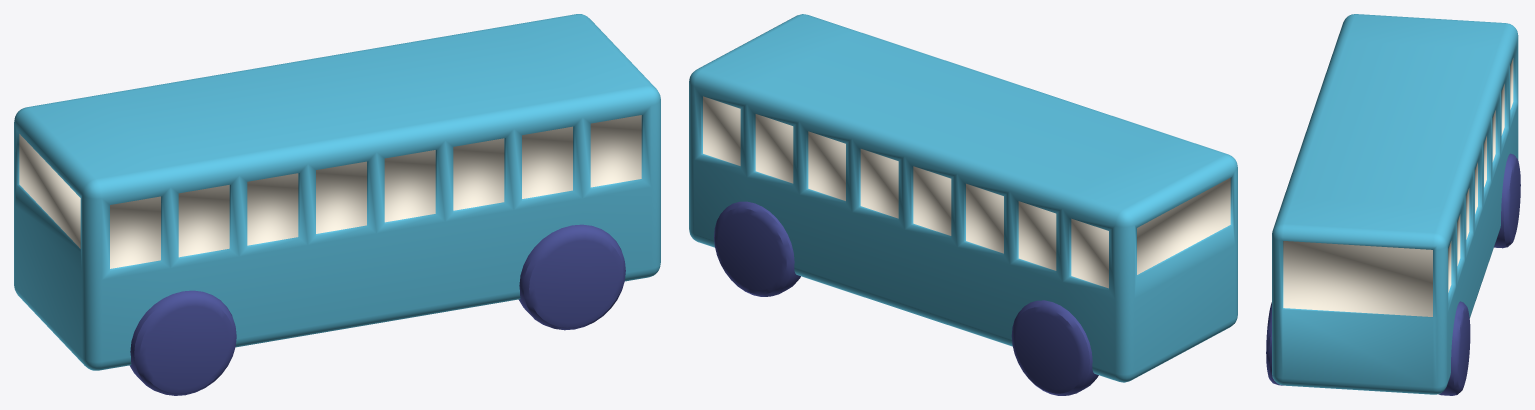
The model's file is 065_Bus.glb.
The picture shows the model from 3 angles, left to right: view 1: azimuth 30°, elevation 25°; view 2: azimuth 150°, elevation 25°; view 3: azimuth 270°, elevation 25°; orthographic projection. The views are drawn at different scales.
Parts seen in each view (by area): view 1: 立方体066, 立方体066_1, 立方体066_2; view 2: 立方体066, 立方体066_1, 立方体066_2; view 3: 立方体066, 立方体066_1, 立方体066_2.
Part boxes in pixels (x1,y1,x2,y2): 立方体066: [14, 14, 660, 370]; 立方体066_1: [19, 115, 641, 268]; 立方体066_2: [129, 224, 625, 395]; 立方体066: [689, 14, 1237, 382]; 立方体066_1: [703, 96, 1230, 288]; 立方体066_2: [714, 201, 1098, 395]; 立方体066: [1272, 14, 1518, 394]; 立方体066_1: [1283, 58, 1513, 316]; 立方体066_2: [1266, 153, 1520, 395].
Size of the model in its own units: 6.64 by 2.55 by 3.12.
